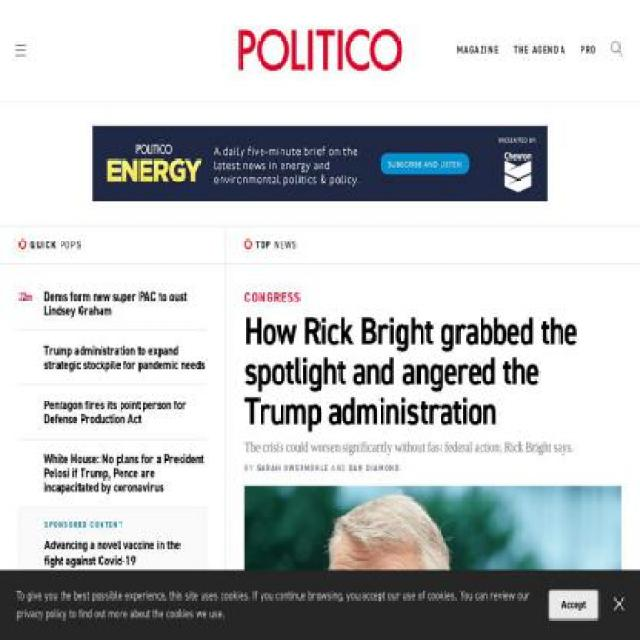button: (238, 29, 402, 71), (548, 589, 600, 620), (506, 42, 574, 58), (449, 42, 508, 58), (604, 39, 630, 61), (572, 42, 605, 58), (614, 596, 624, 613)
